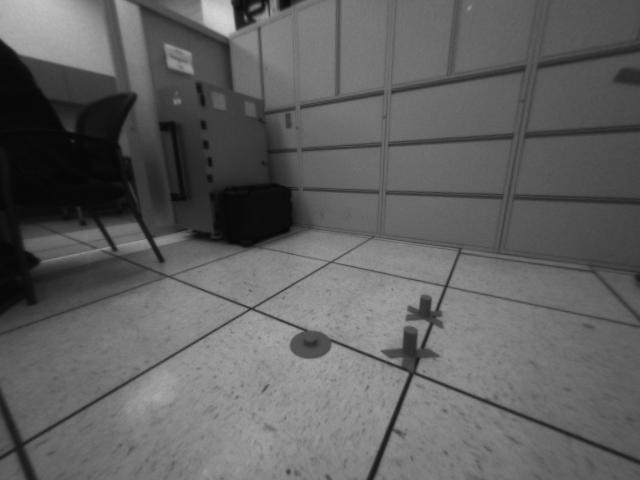X: (381, 327, 441, 374), (406, 295, 446, 328)
